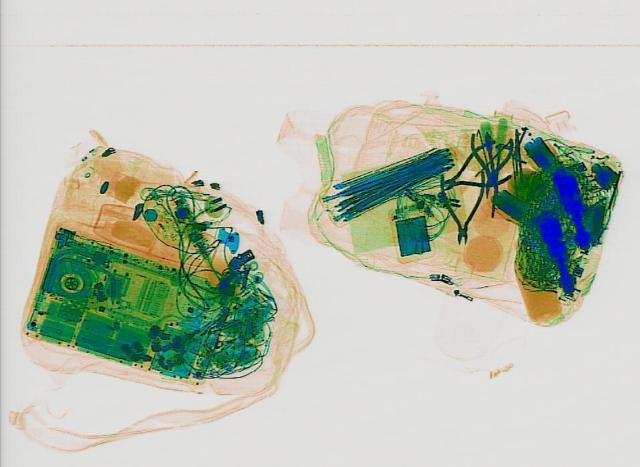Pliers: (425, 139, 525, 202), (463, 130, 513, 217), (438, 170, 487, 243)
